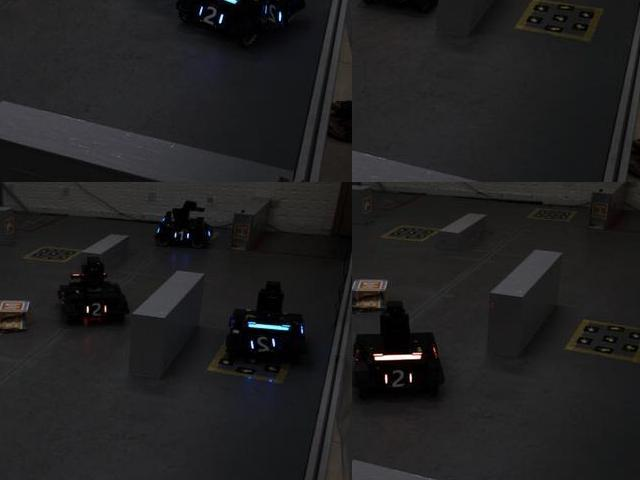armor: (375, 367, 420, 395), (193, 2, 225, 30), (249, 334, 281, 359), (261, 1, 289, 29), (81, 300, 112, 318), (170, 227, 193, 242)
